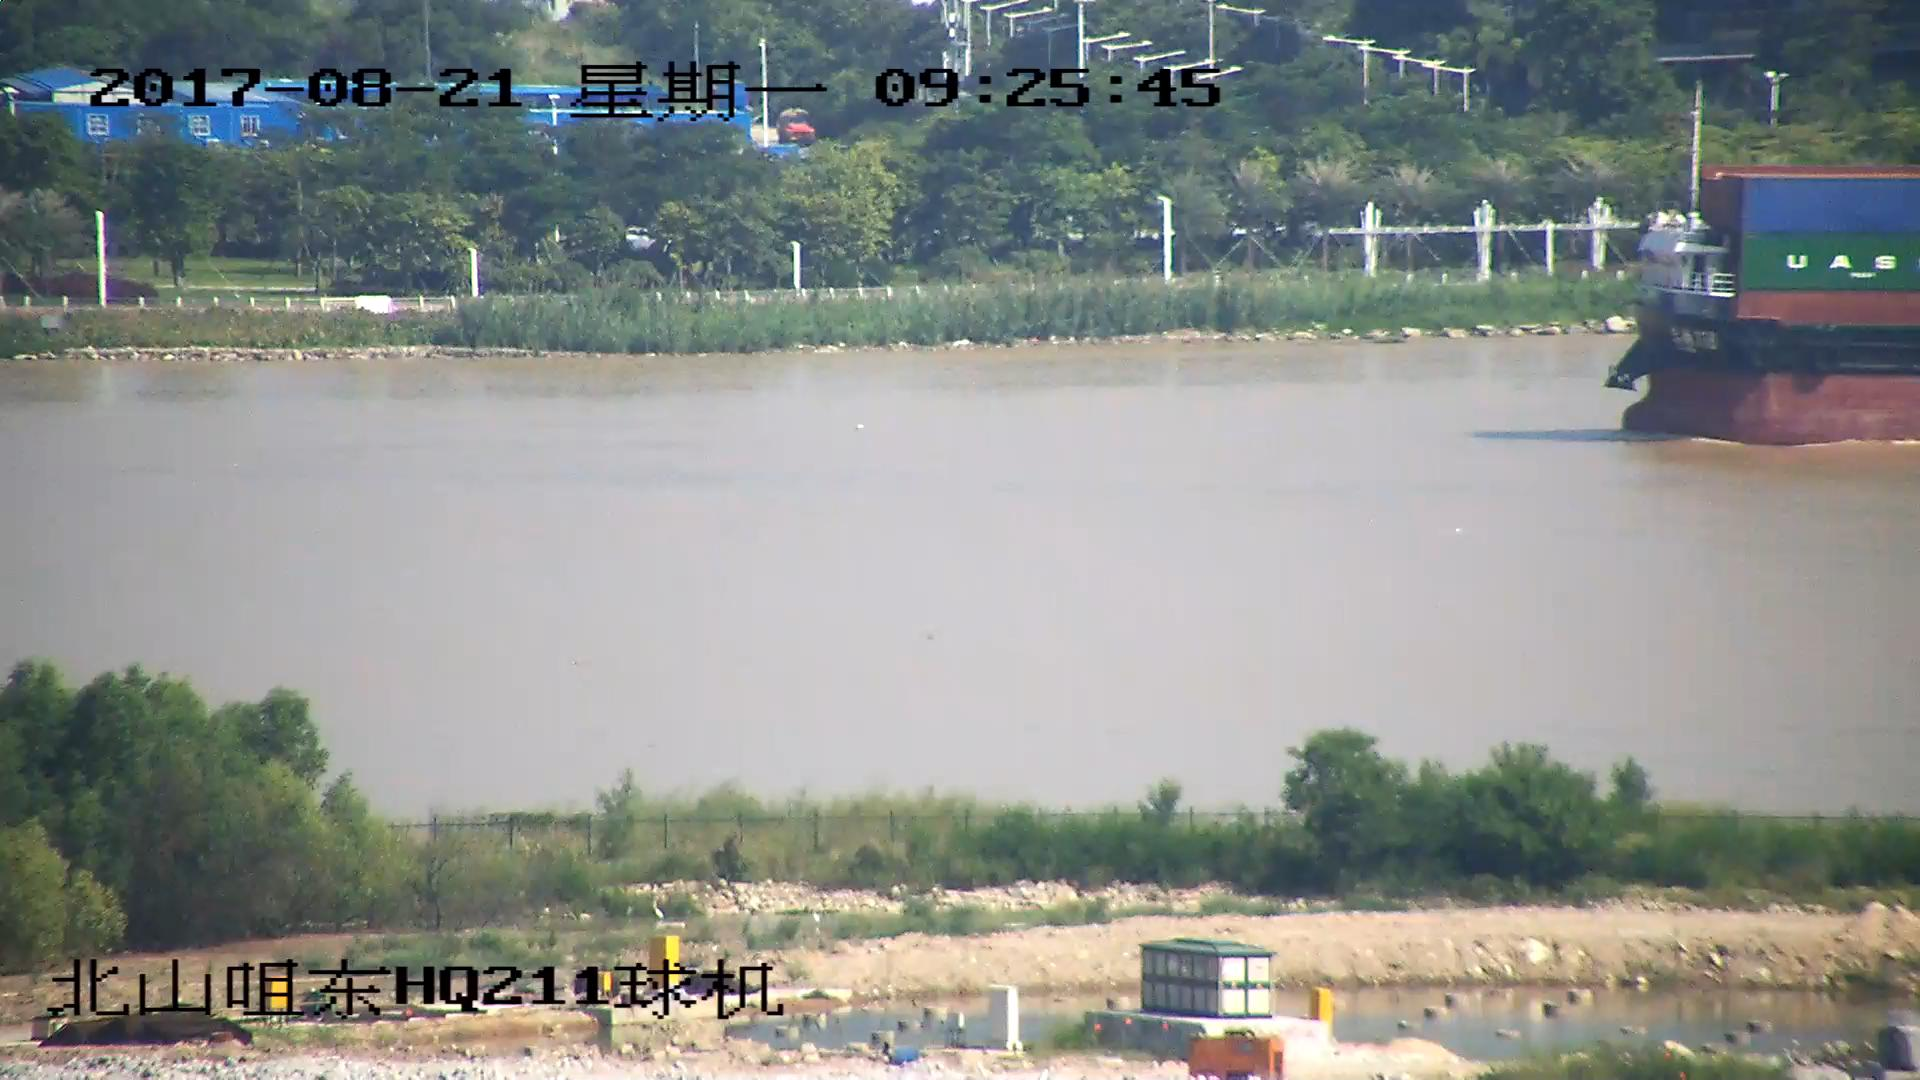container ship: (1612, 169, 1920, 443)
